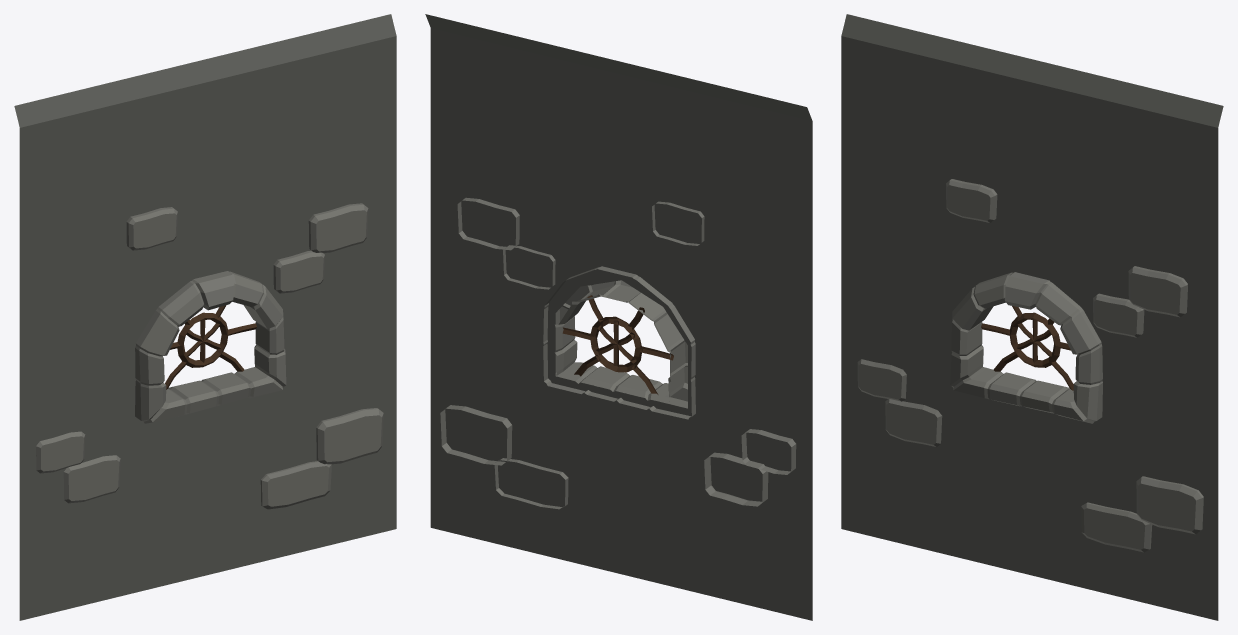
File: Dungeon_Wall_Window.glb
3 renders of one model, left to right at view 1: azimuth 30°, elevation 25°; view 2: azimuth 150°, elevation 25°; view 3: azimuth 330°, elevation 25°, orthographic.
Visible parts, largest first — view 1: Dungeon_Wall_Window; view 2: Dungeon_Wall_Window; view 3: Dungeon_Wall_Window.
Boxes of the visible parts, bbox=[...] form: Dungeon_Wall_Window: bbox=[14, 14, 396, 620]; Dungeon_Wall_Window: bbox=[425, 14, 812, 620]; Dungeon_Wall_Window: bbox=[841, 14, 1223, 620].
Size of the model in its own units: 4 by 5.18 by 0.3951.
2 materials, 2 textured.
